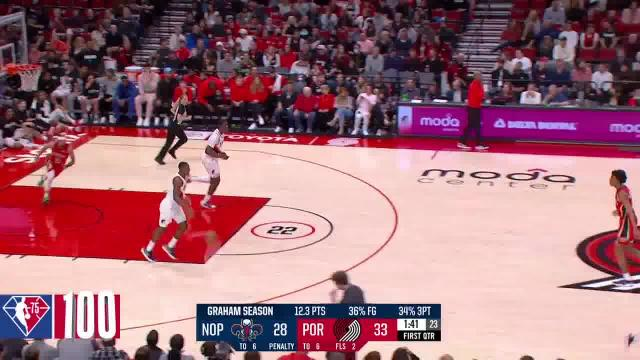ball-handler: (160, 159, 218, 259)
player: (605, 168, 640, 286), (33, 134, 77, 205), (202, 117, 231, 208)
